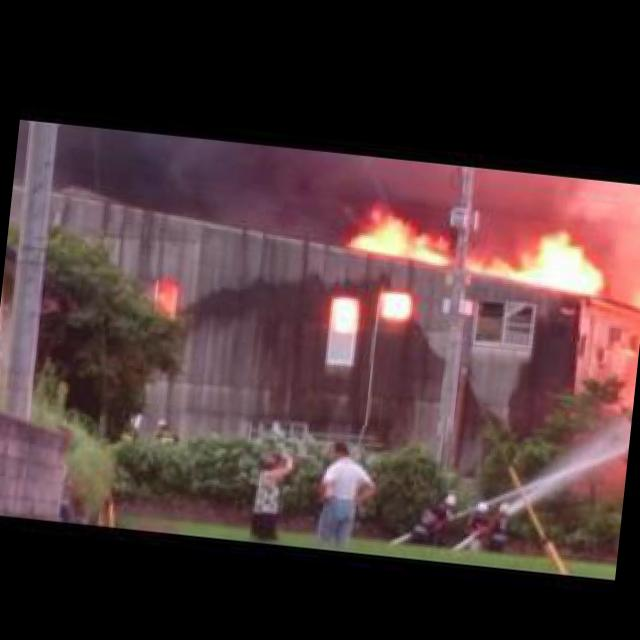fire: (468, 214, 610, 298), (342, 202, 456, 264), (152, 280, 182, 318)
